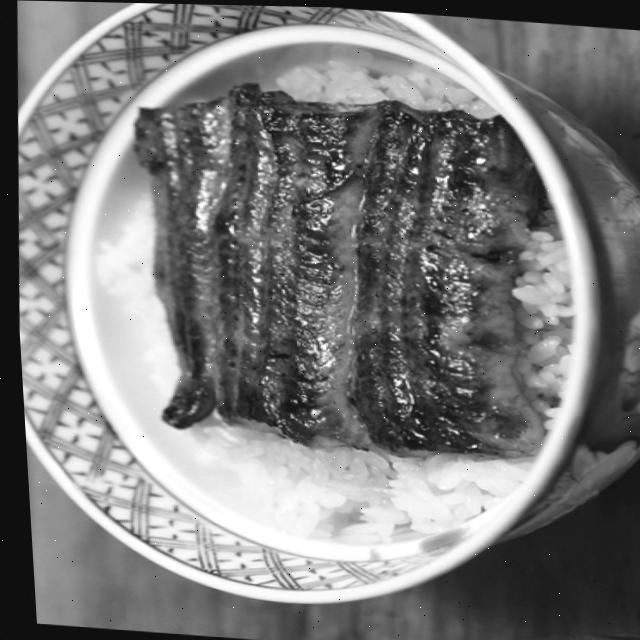熟制海鲜: (0, 0, 640, 625)
